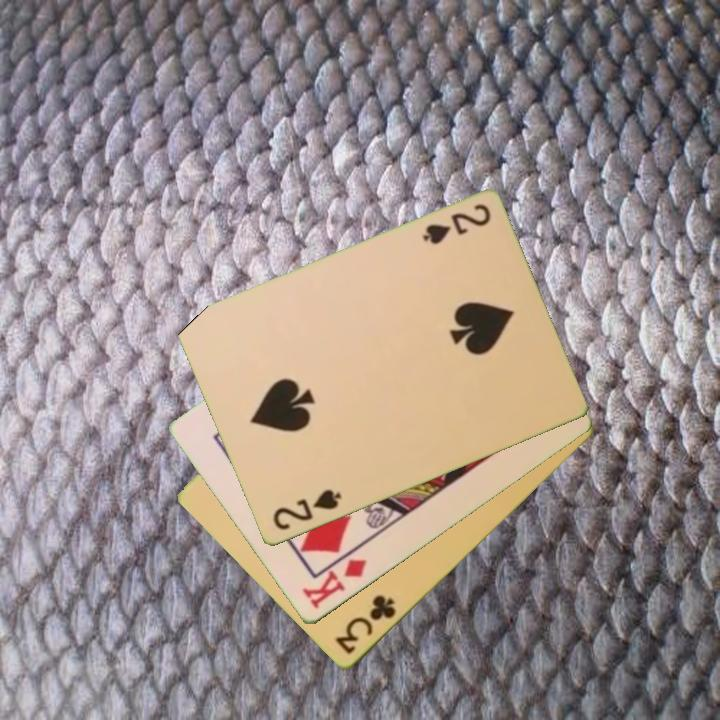2s: (418, 200, 494, 249), (269, 486, 344, 534)
3c: (331, 592, 399, 658)
Kd: (298, 556, 370, 613)
